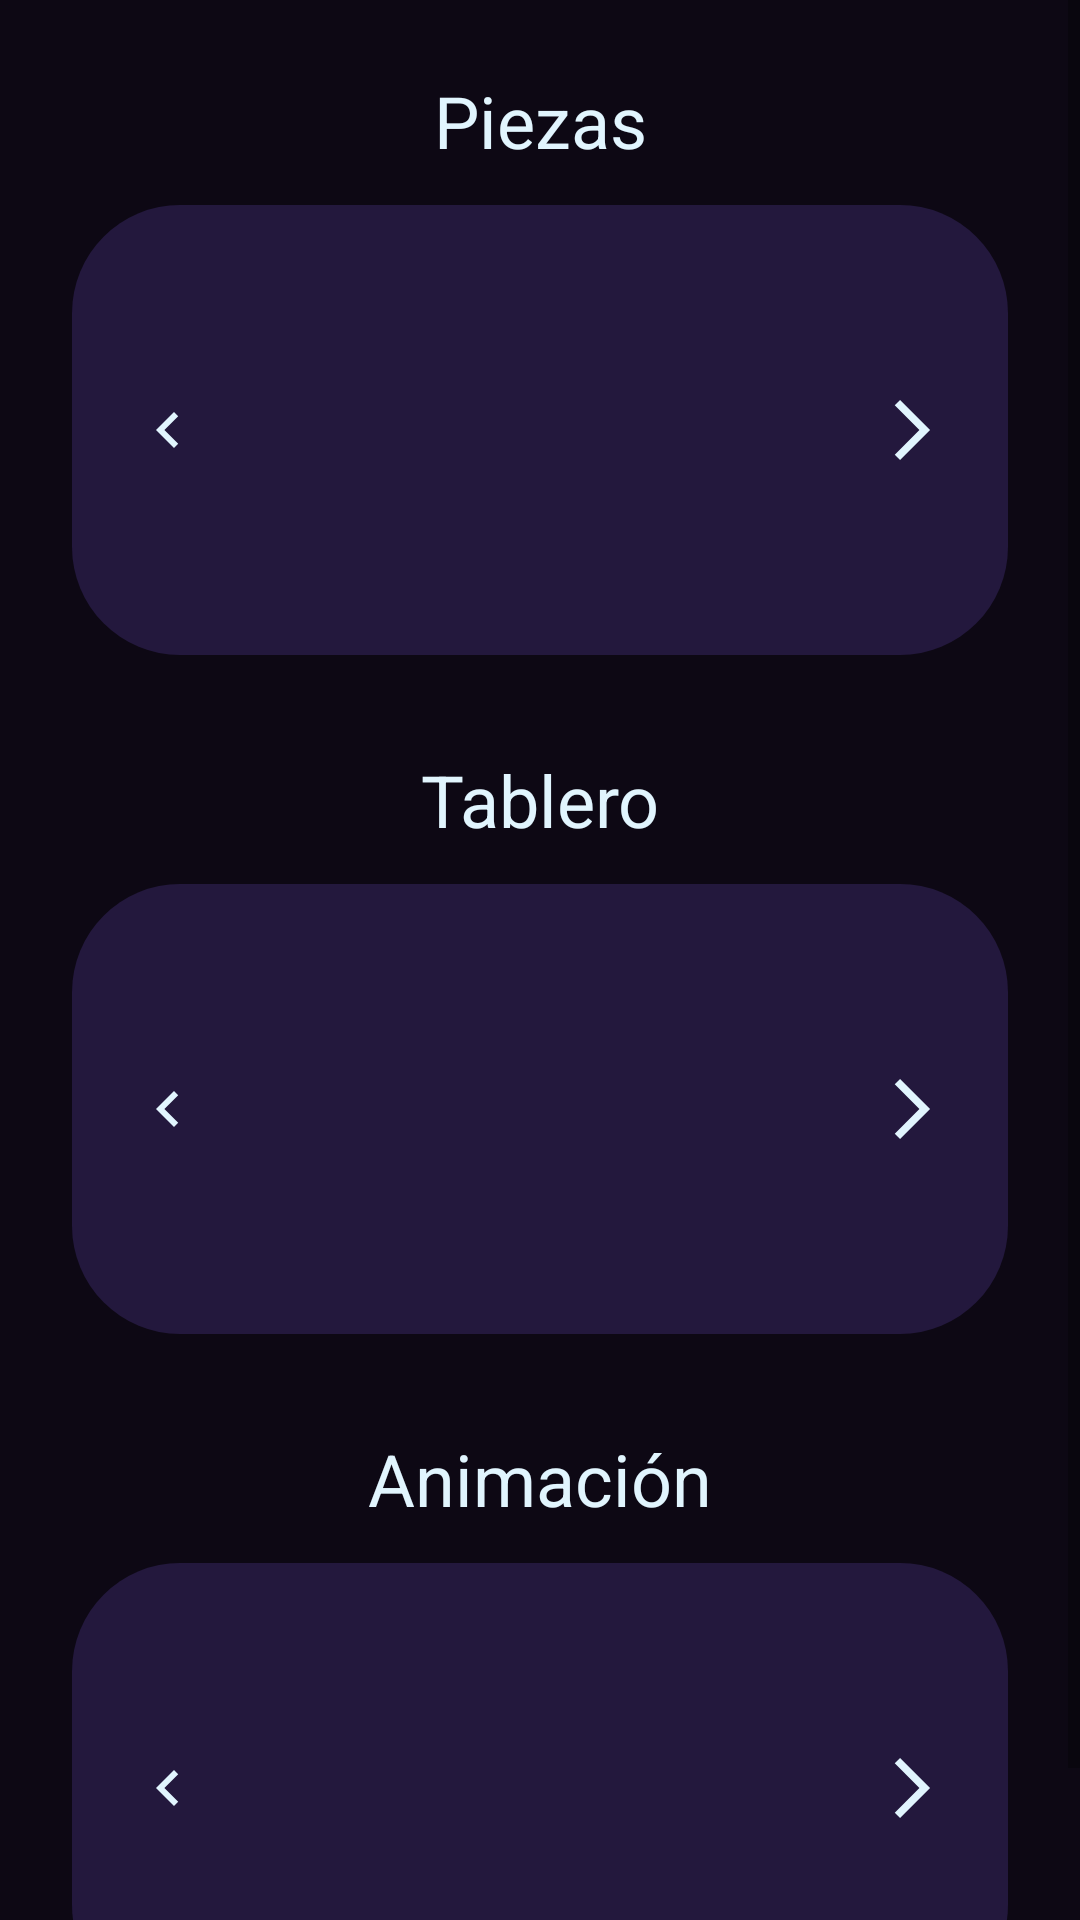

Point at icon controls on the screen. Image size 1080w x 1920h, points as point (x, y).
Anterior: point (167, 430), point (167, 1109), point (167, 1788)
Siguiente: point (912, 430), point (912, 1109), point (912, 1788)
